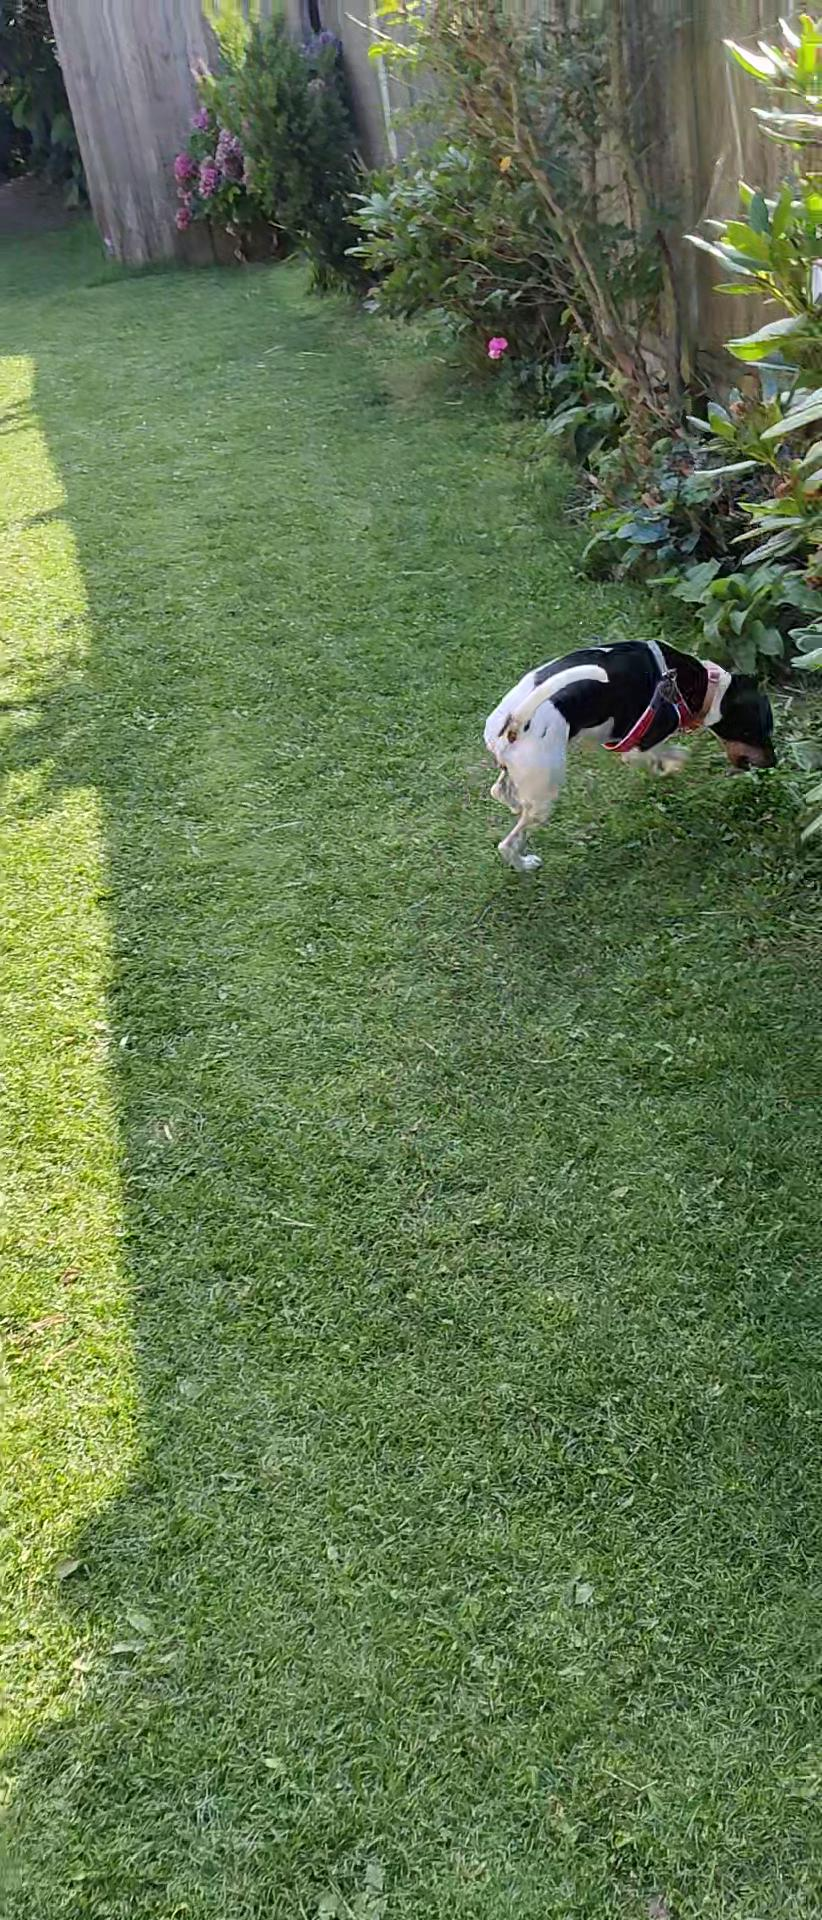Dog: (474, 626, 786, 889)
